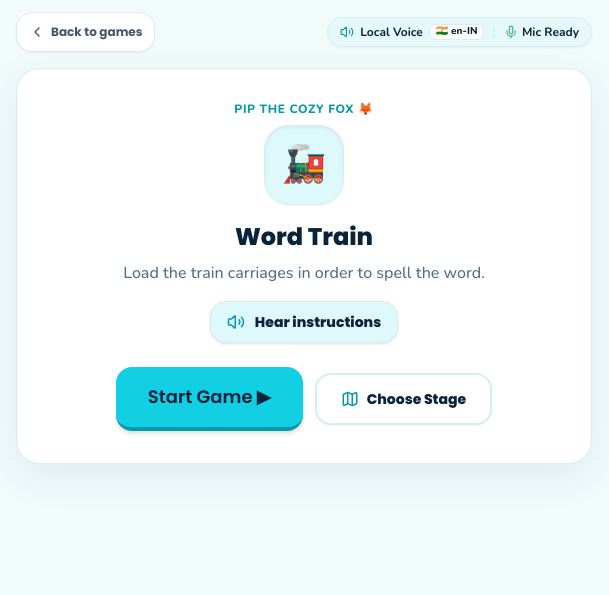
Test case: Word Train Game Suite (/child/games/word-train) › 8. handles save errors gracefully and allows retry without duplicate saves
This screenshot has width=609, height=595.
Click the button "Start Game ▶" at (209, 399), box [116,367,303,431]
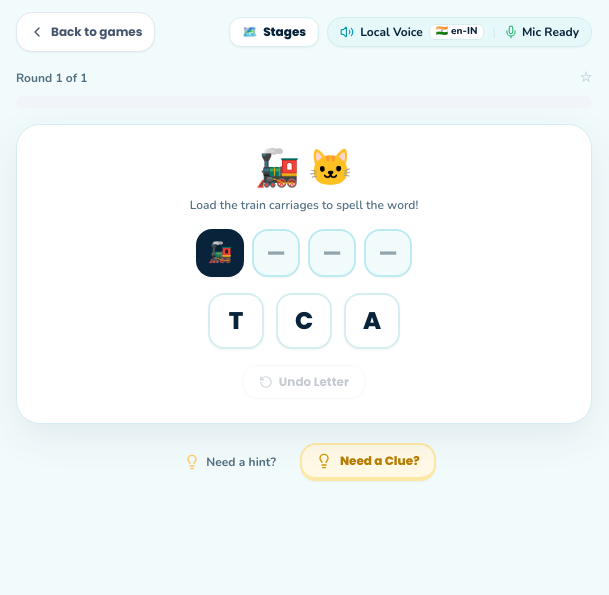
Complete round
Click the button named "Carriage C" at (304, 321), box [276,293,332,349]
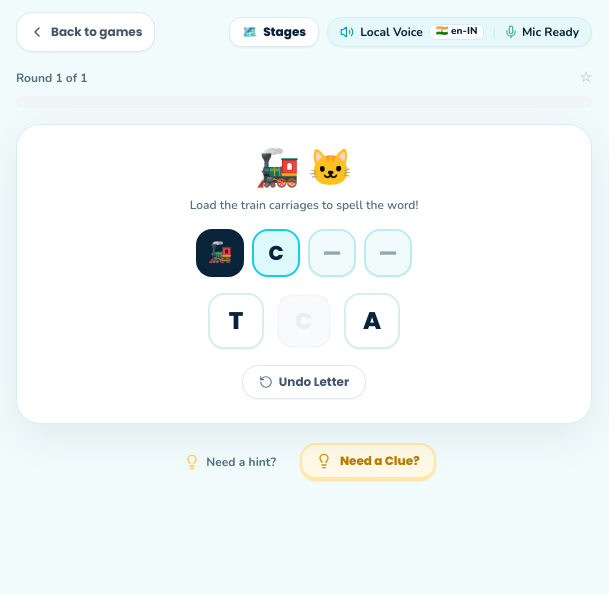
Click the button named "Carriage A" at (372, 321), box [344,293,400,349]
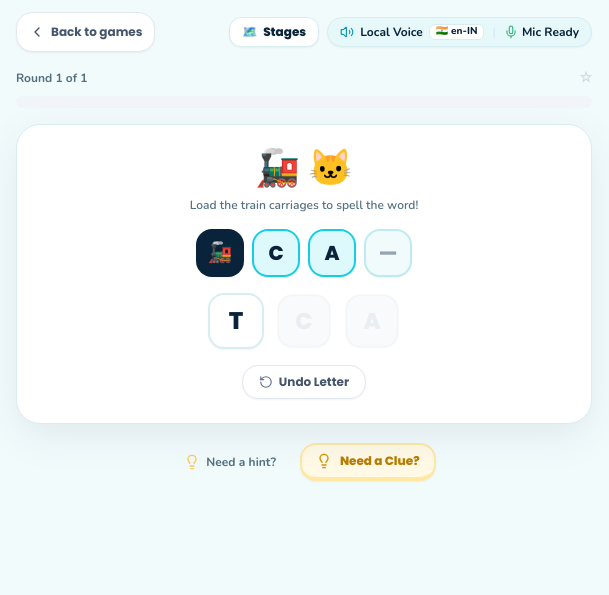
Click the button named "Carriage T" at (236, 321), box [208,293,264,349]
Wait 950 ms
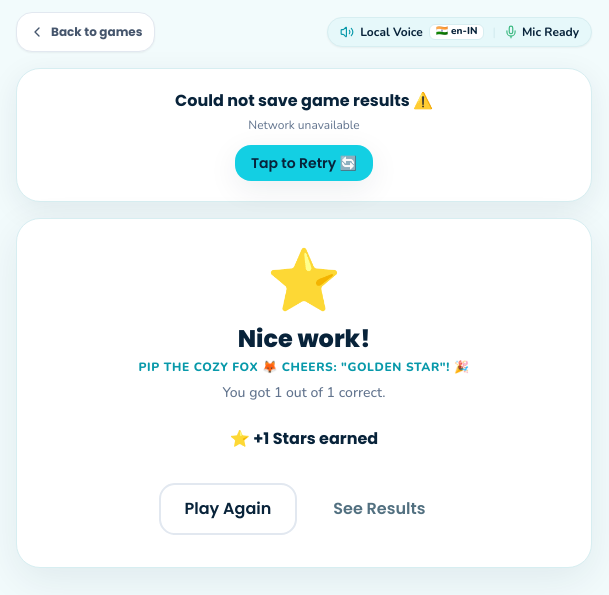
Expected: the text "Could not save game results ⚠️" is shown, [175,89,433,112]
Expected: the text "Network unavailable" is shown, [248,117,360,133]
Click the button "Tap to Retry 🔄" at (304, 163), box [235,145,373,181]
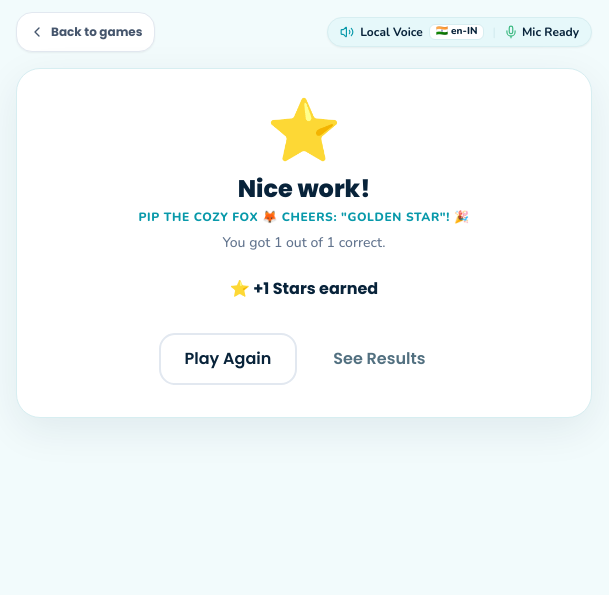
Expected: the text "Could not save game results ⚠️" is gone
